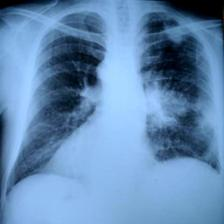tuberculosis: (3, 5, 224, 201)
